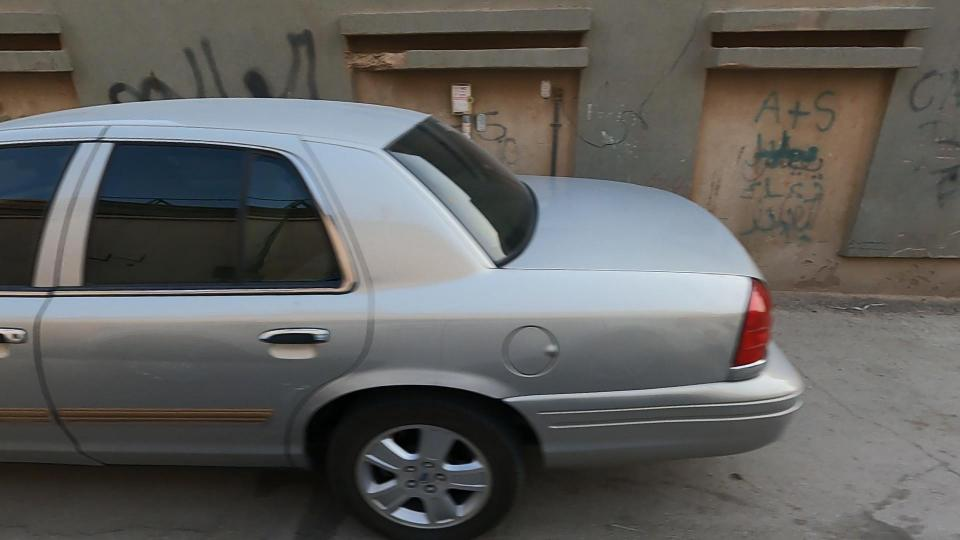GRAFFITI: (644, 0, 919, 339), (3, 0, 463, 185)
